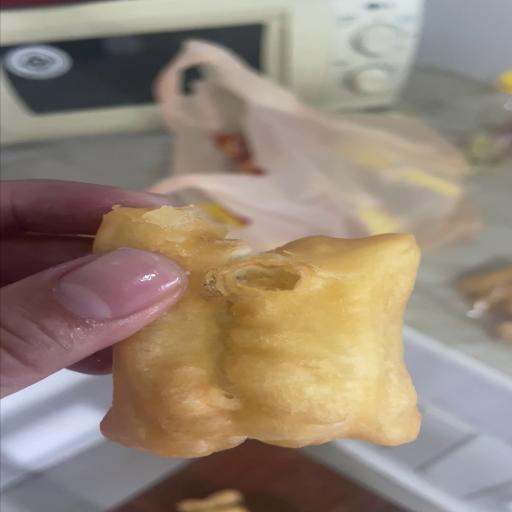street_golden_defect: (95, 200, 420, 457)
